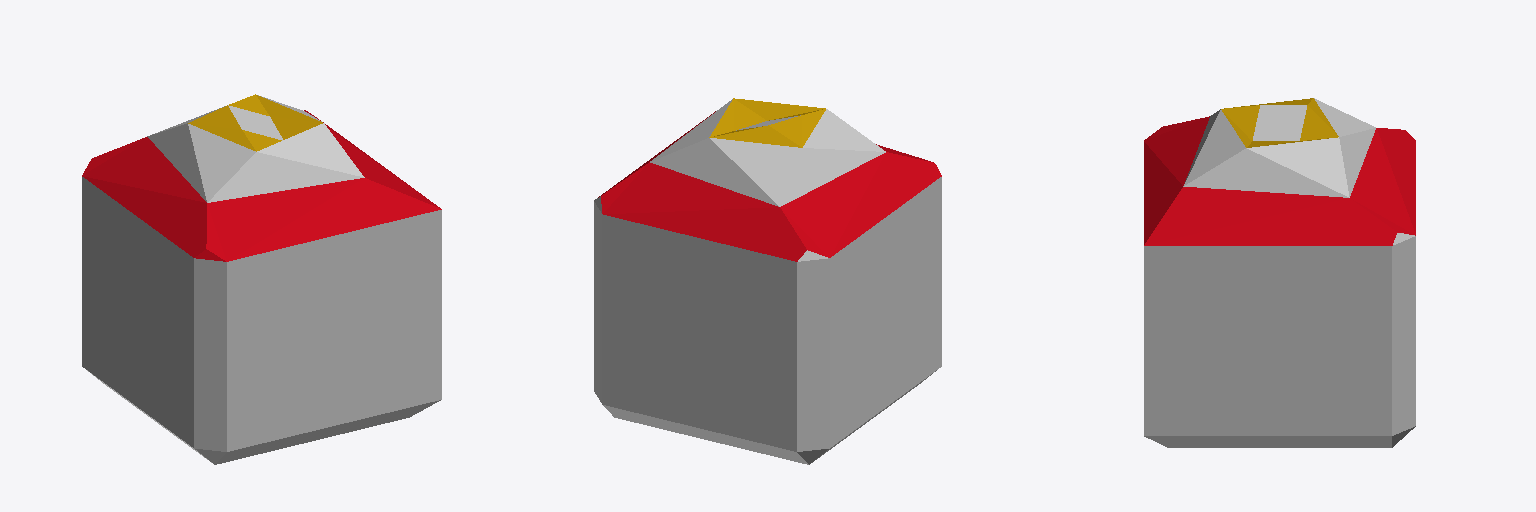
Rendered from artcube.obj.
The picture shows the model from 3 angles: view 1: azimuth 30°, elevation 25°; view 2: azimuth 150°, elevation 25°; view 3: azimuth 270°, elevation 25°; orthographic projection.
Parts seen in each view (by area): view 1: Cube; view 2: Cube; view 3: Cube.
Part boxes in pixels (x1,y1,x2,y2): Cube: (82, 94, 441, 464); Cube: (594, 98, 941, 464); Cube: (1144, 98, 1415, 447).
Bounding box in the file's own units: 2 × 2.33 × 2.